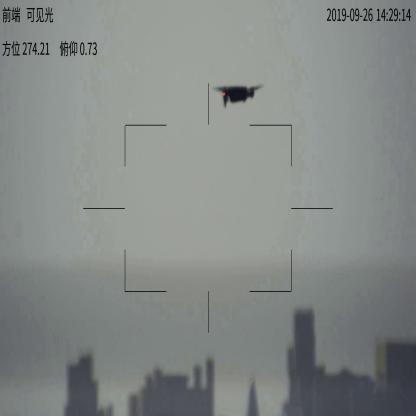uav: (210, 81, 261, 110)
